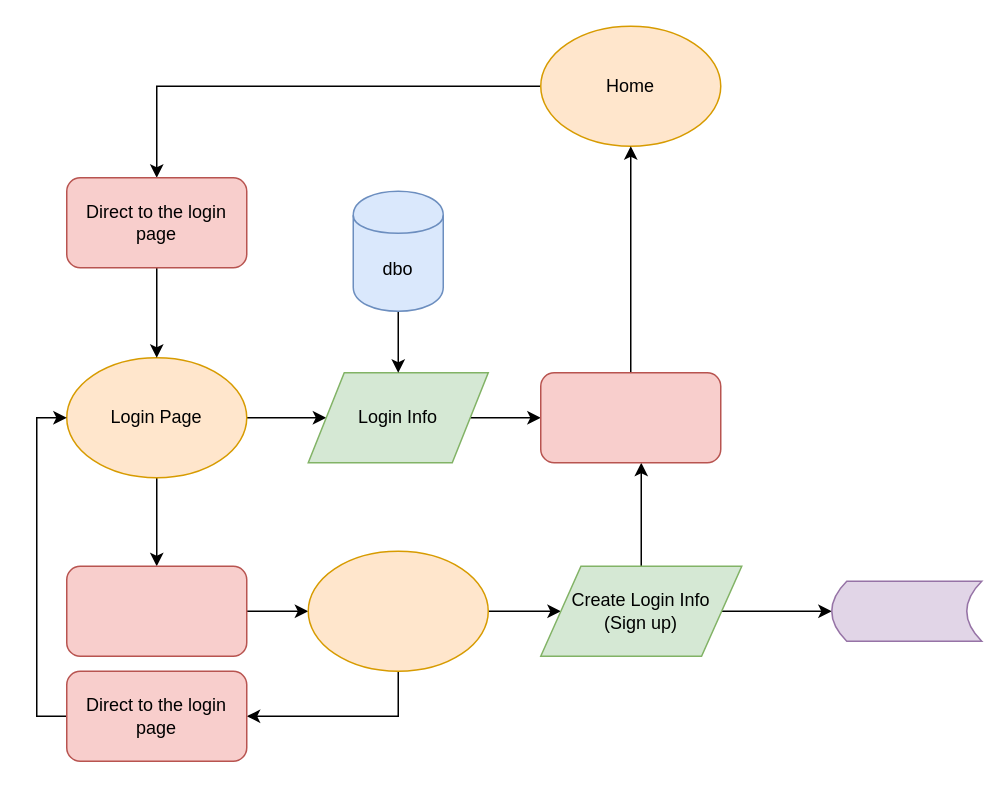
Image size: 1008x788. Some labels were removed from this diagram. Here are the shapes that lost their labels. From the top down, the box of each, then its label:
(539, 371, 721, 463): Direct to the Home page
(65, 565, 247, 656): Direct to the signup page
(307, 550, 488, 671): Signup Page
(830, 580, 982, 641): Storing Login Info
